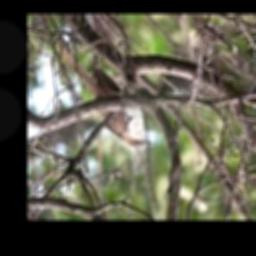Cuckoo: (57, 46, 152, 149)
